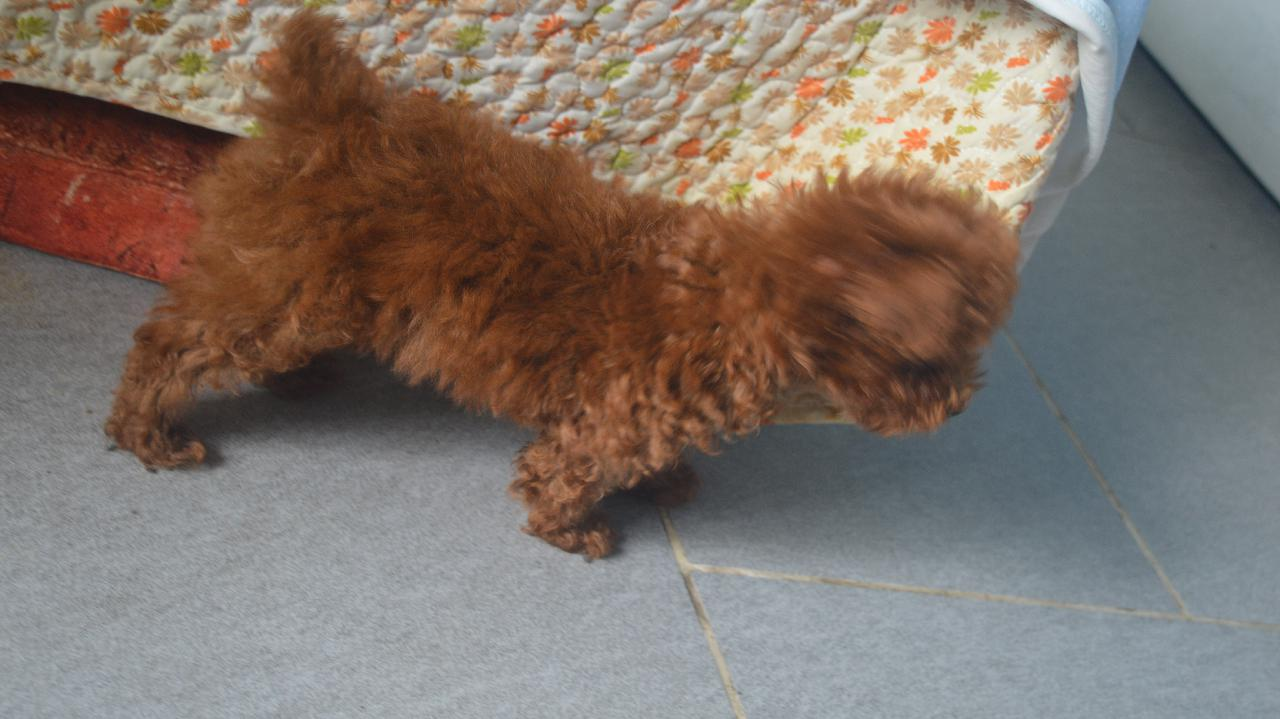coin: (108, 14, 1043, 565)
